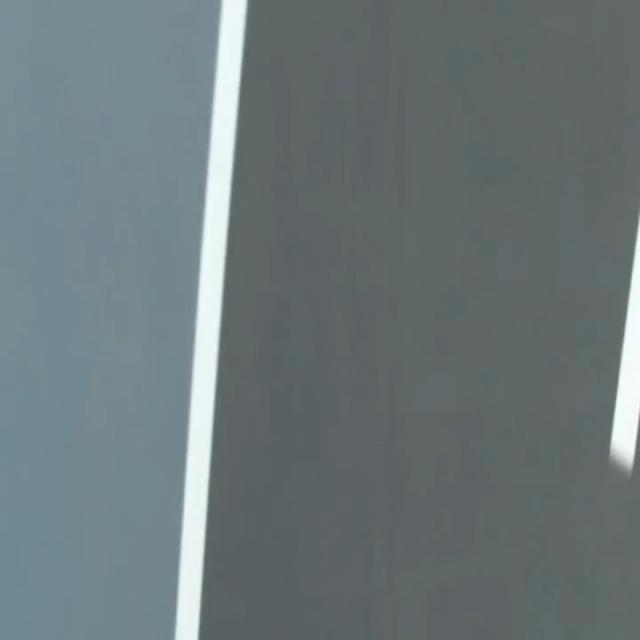center: (610, 216, 639, 473)
left: (174, 0, 247, 639)
